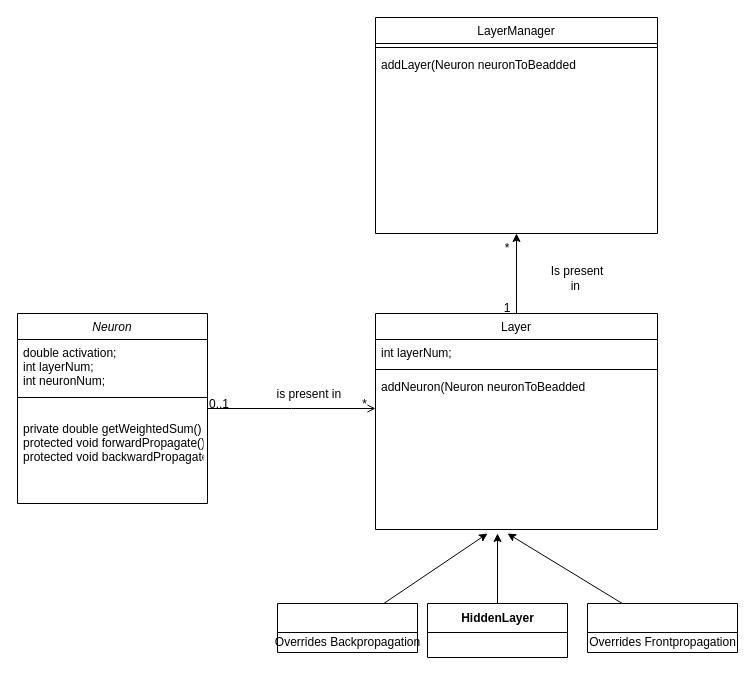
Some shapes in this 755 by 675 pixel diagram are drawn without their labels. Each missing label, with the box of its shape:
InputLayer: (276, 602, 418, 652)
OutputLayer: (586, 602, 738, 652)
